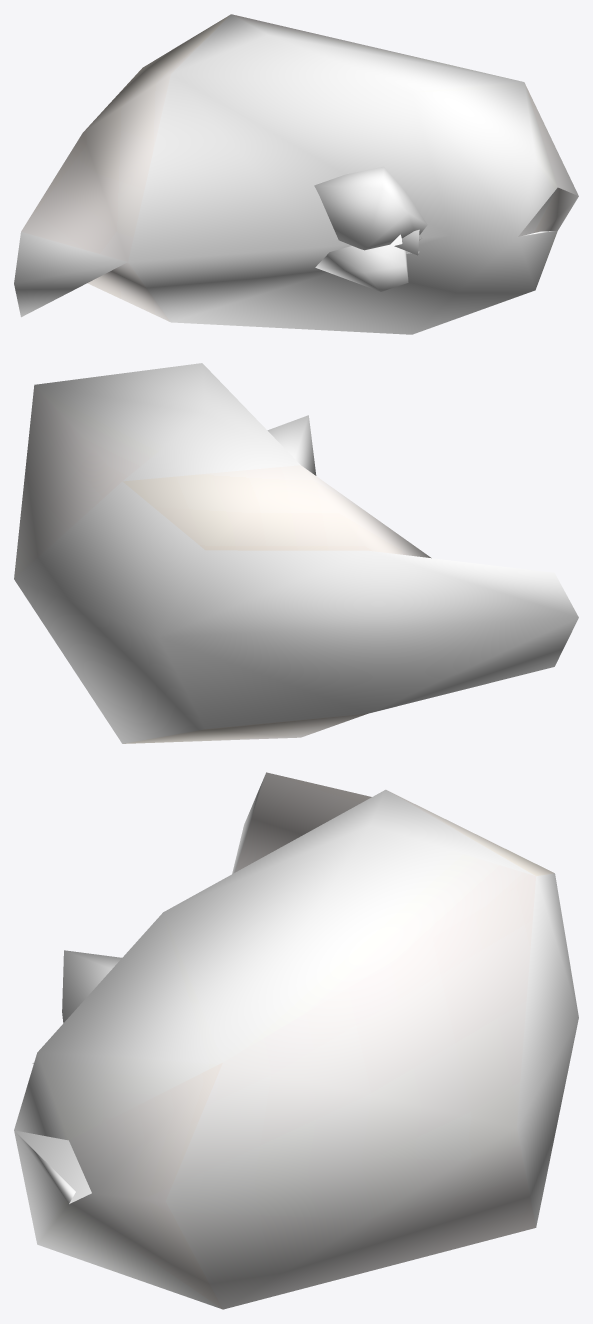
File: gooserig.obj
The picture shows the model from 3 angles, top to bottom: view 1: azimuth 30°, elevation 25°; view 2: azimuth 150°, elevation 25°; view 3: azimuth 270°, elevation 25°; orthographic projection. The views are drawn at different scales.
Visible parts, largest first — view 1: goosebody_goosebodymesh, gooseleg_r_gooseleg_rmesh, gooseleg_l_gooseleg_lmesh; view 2: goosebody_goosebodymesh, gooseleg_r_gooseleg_rmesh; view 3: goosebody_goosebodymesh, gooseleg_r_gooseleg_rmesh.
Part boxes in pixels (box(x1,y1,x2,y2)): goosebody_goosebodymesh: box(14, 14, 578, 334); gooseleg_r_gooseleg_rmesh: box(314, 166, 427, 250); gooseleg_l_gooseleg_lmesh: box(315, 234, 408, 291); goosebody_goosebodymesh: box(14, 363, 578, 743); gooseleg_r_gooseleg_rmesh: box(267, 415, 316, 475); goosebody_goosebodymesh: box(14, 772, 578, 1309); gooseleg_r_gooseleg_rmesh: box(62, 950, 121, 1022).
Bounding box in the file's own units: 2.47 × 1.3 × 1.57.
Materials: 2 (2 with a texture image).
